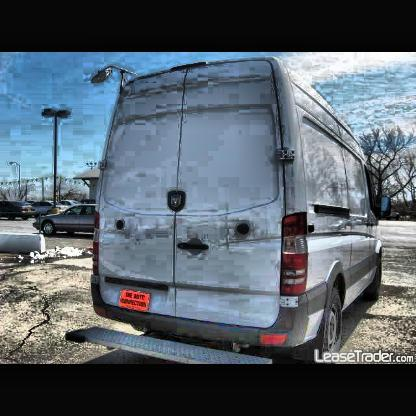Dodge Sprinter Cargo Van 2009: (68, 56, 395, 364)
